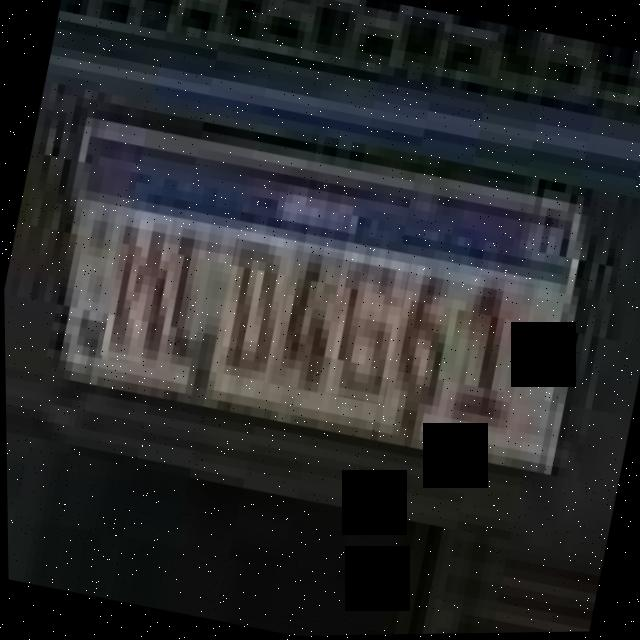1: (448, 274, 536, 436)
4: (267, 245, 345, 395)
6: (381, 256, 466, 431)
D: (209, 227, 296, 384)
G: (322, 253, 410, 405)
L: (144, 220, 236, 379)
M: (97, 209, 175, 365)
